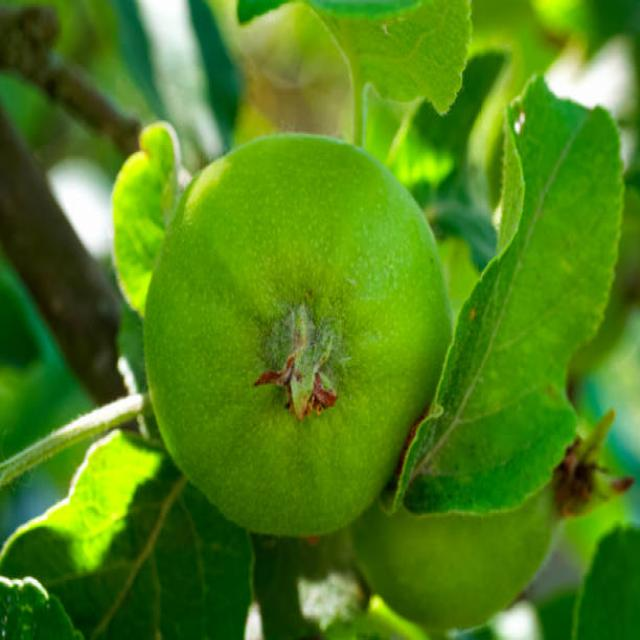Unripe: (144, 133, 454, 536)
